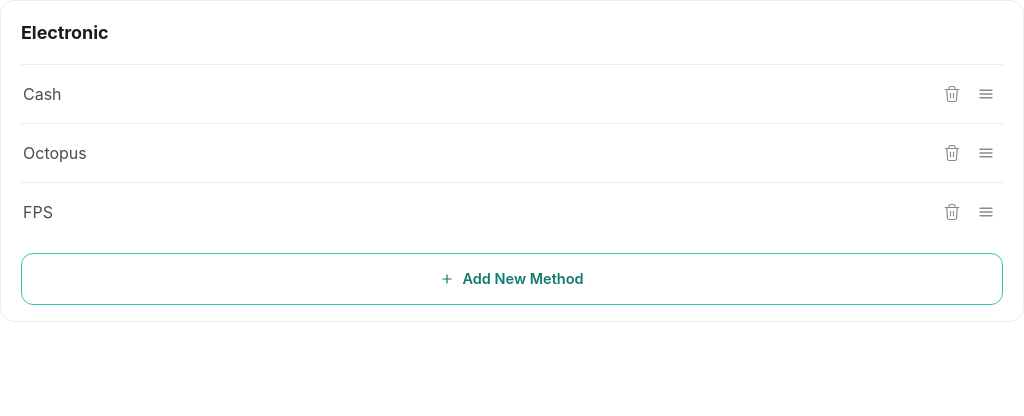
Test: adding › keeps Add disabled until something is typed
Click the button "Add New Method" at (512, 279), box [21,253,1003,305]
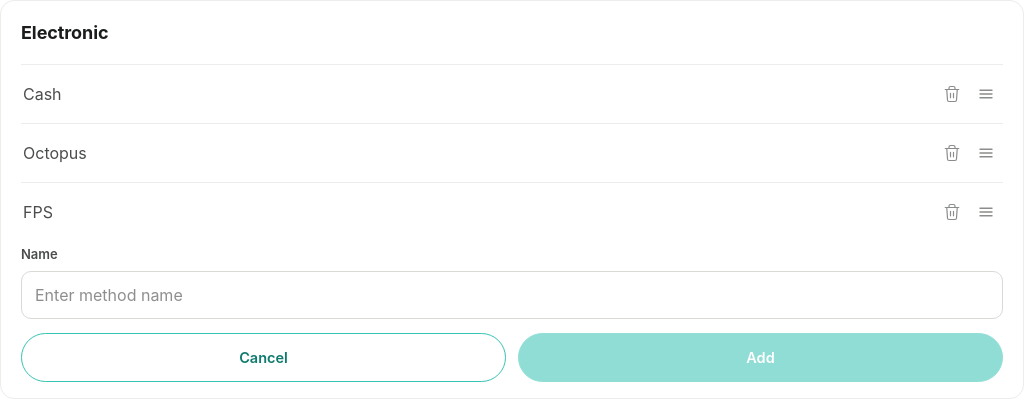
Check: the button "Add" is disabled, box [518,332,1003,382]
Type "PayMe" into the field with placeholder "Enter method name" at (512, 294), box [21,270,1003,318]
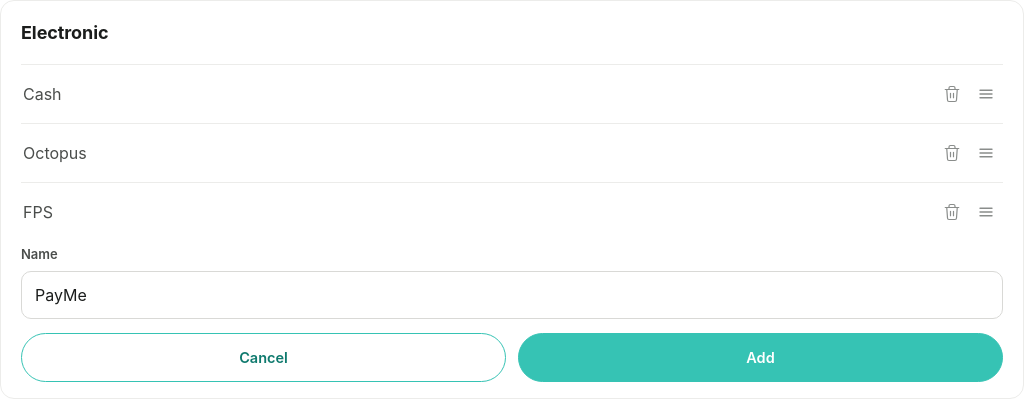
Check: the button "Add" is enabled, box [518,332,1003,382]
